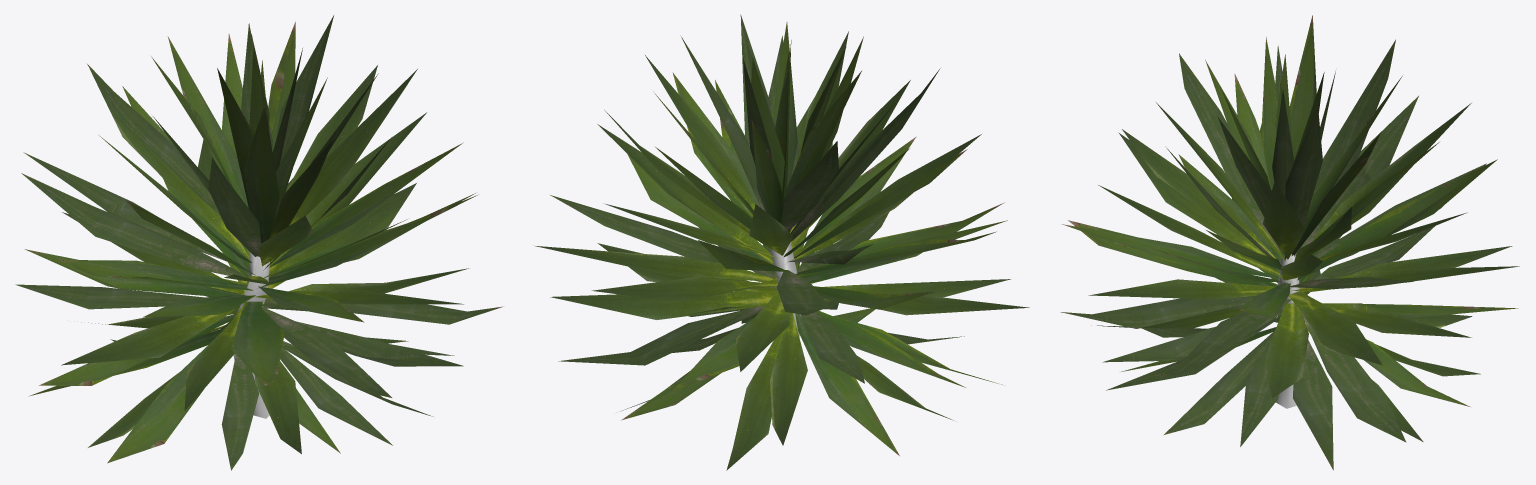
The model's file is MT_PM_V60_Agave_sisalana_01_01_collision.dae.
3 views of the same model, side by side, from view 1: azimuth 30°, elevation 25°; view 2: azimuth 150°, elevation 25°; view 3: azimuth 270°, elevation 25° (orthographic). The views are drawn at different scales.
Visible parts, largest first — view 1: MT_PM_V60_Agave_sisalana_01_01; view 2: MT_PM_V60_Agave_sisalana_01_01; view 3: MT_PM_V60_Agave_sisalana_01_01.
Part boxes in pixels (x1,y1,x2,y2): MT_PM_V60_Agave_sisalana_01_01: (15, 15, 502, 470); MT_PM_V60_Agave_sisalana_01_01: (535, 14, 1029, 470); MT_PM_V60_Agave_sisalana_01_01: (1060, 15, 1519, 470).
Size of the model in its own units: 3.6 by 3.55 by 2.92.
